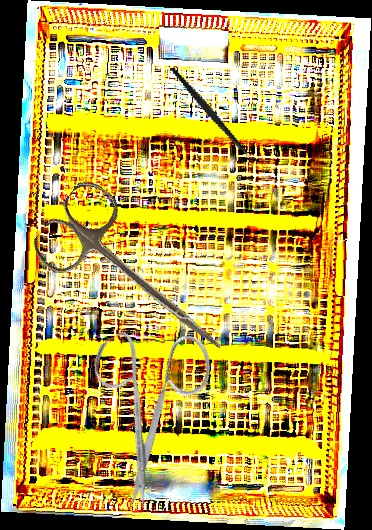Chopper: (169, 49, 261, 178)
Iris Scissors: (26, 174, 253, 382), (47, 297, 261, 515)
